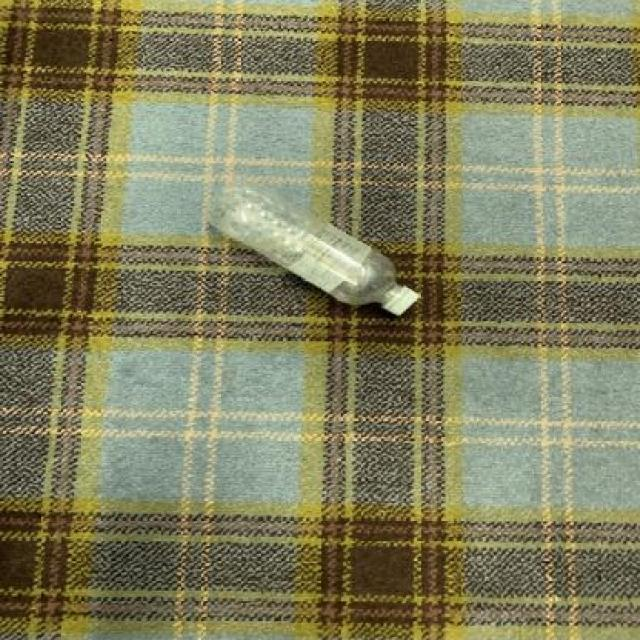trash: (203, 186, 420, 320)
